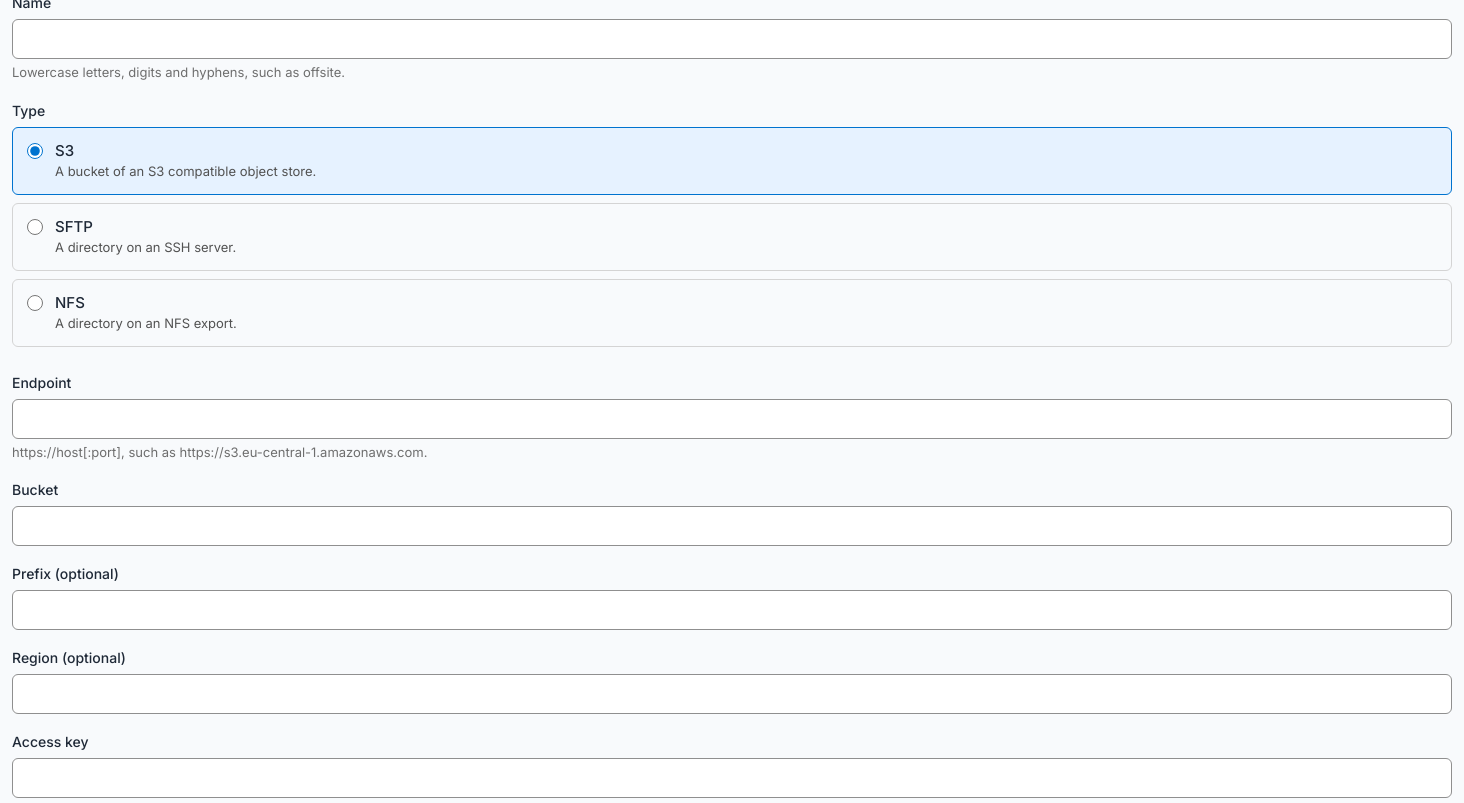
Test case: TargetForm › shows the server's field error at its field and other errors above the form
Type "offsite" into the field labelled "Name" at point(732, 39), box [12,19,1452,59]
(page scrolled)
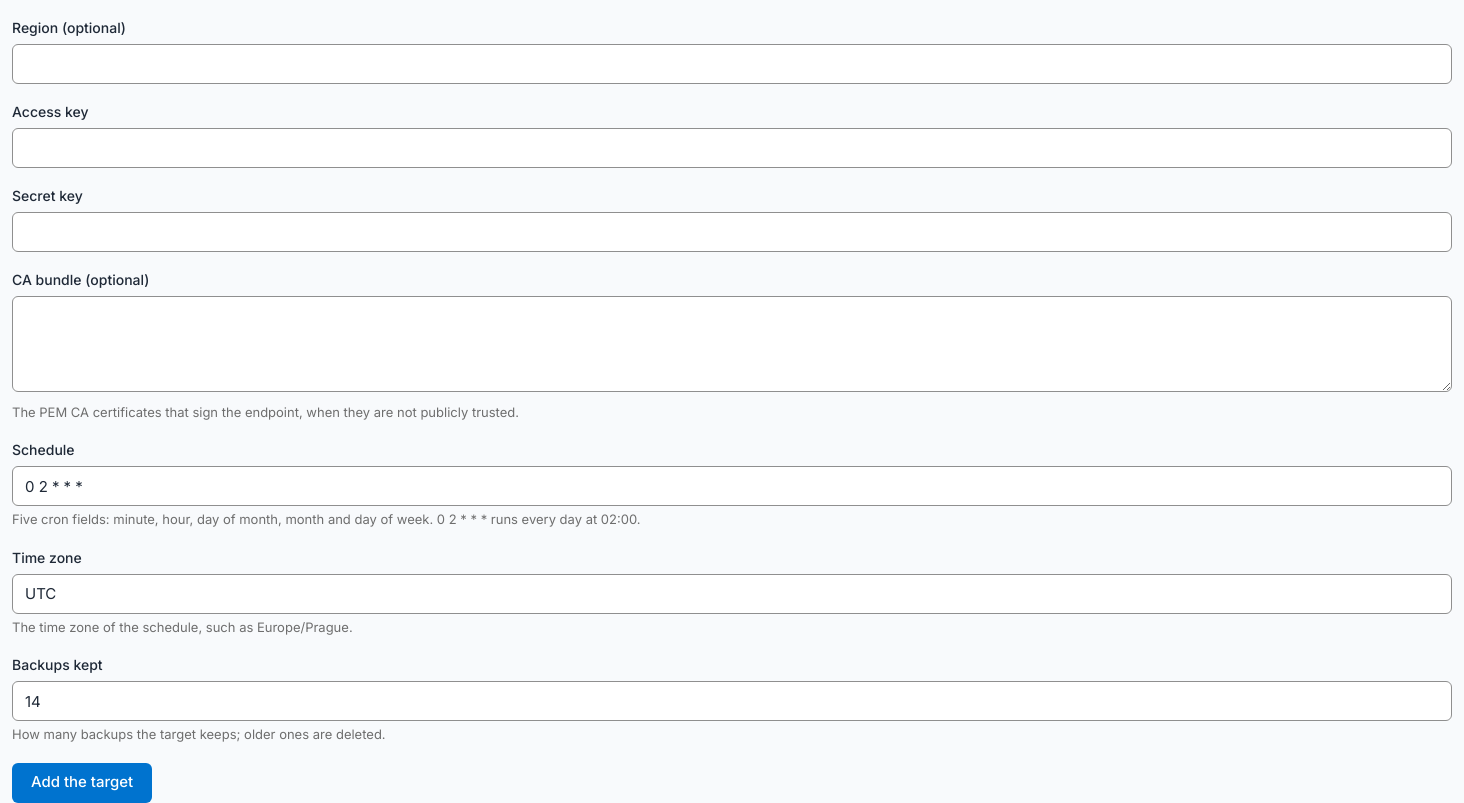
Click the button "Add the target" at point(82, 782), box [12,762,152,802]
(page scrolled)
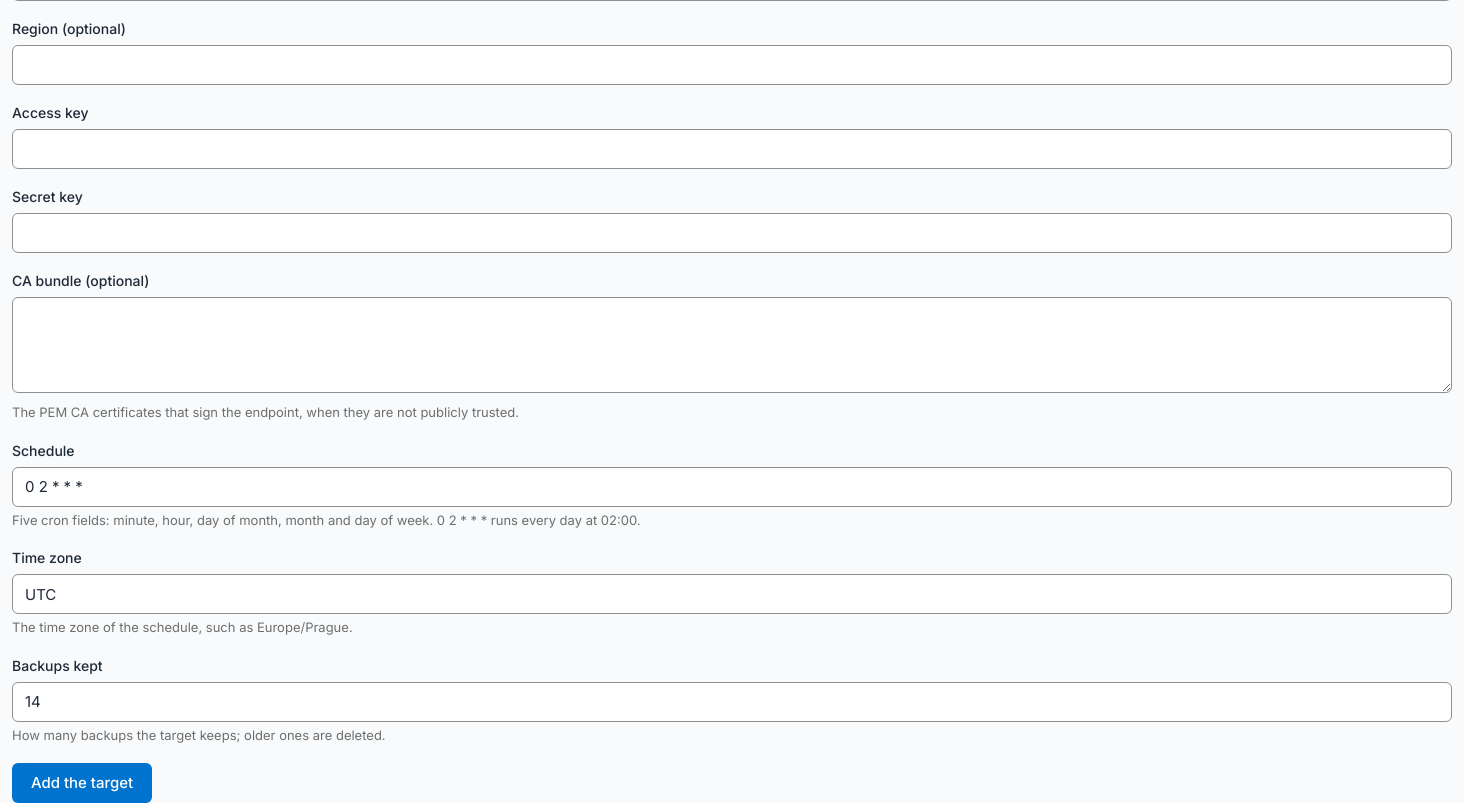
Click the button "Add the target" at point(82, 783), box [12,763,152,802]
(page scrolled)
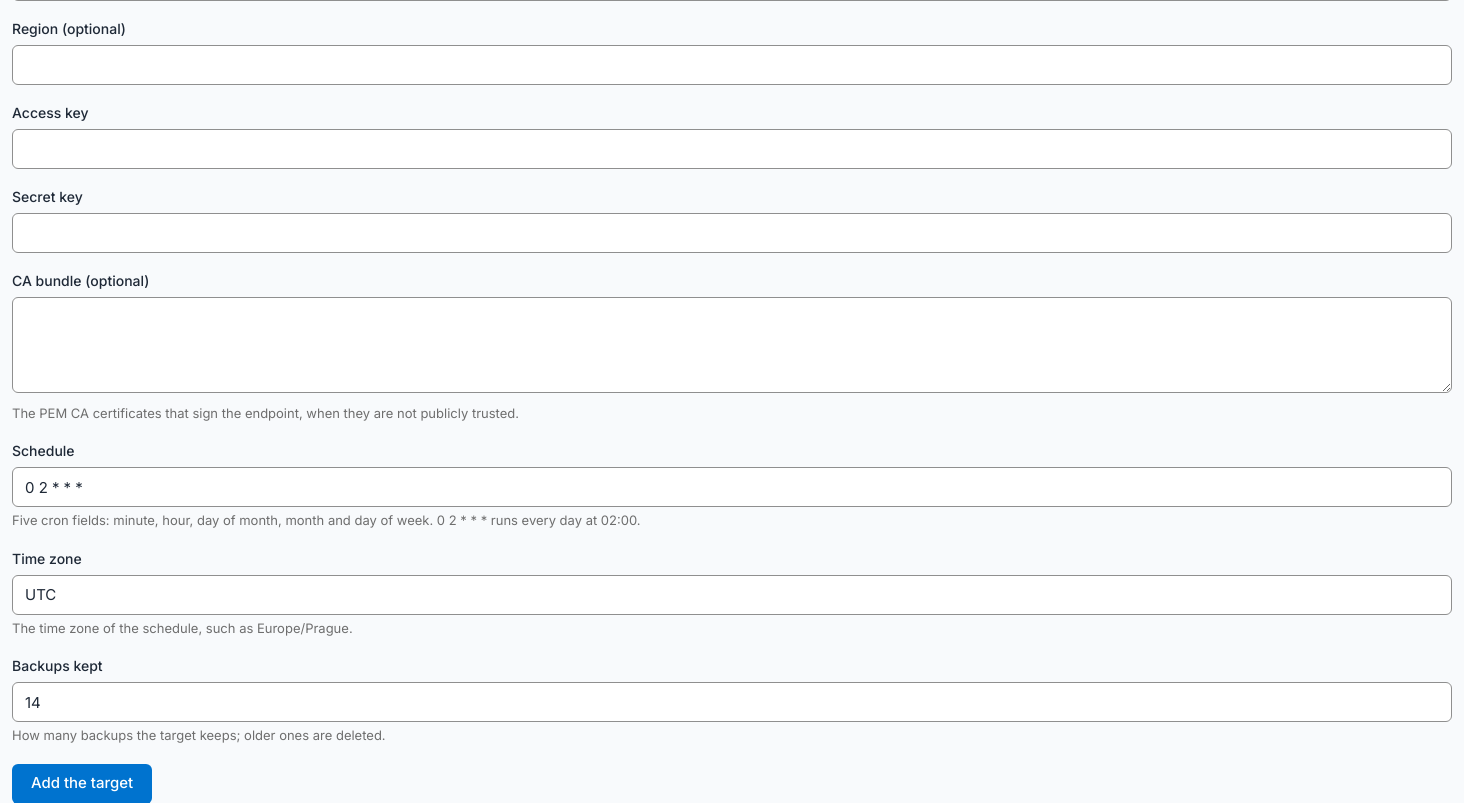
Click the button "Add the target" at point(82, 784), box [12,764,152,802]
(page scrolled)
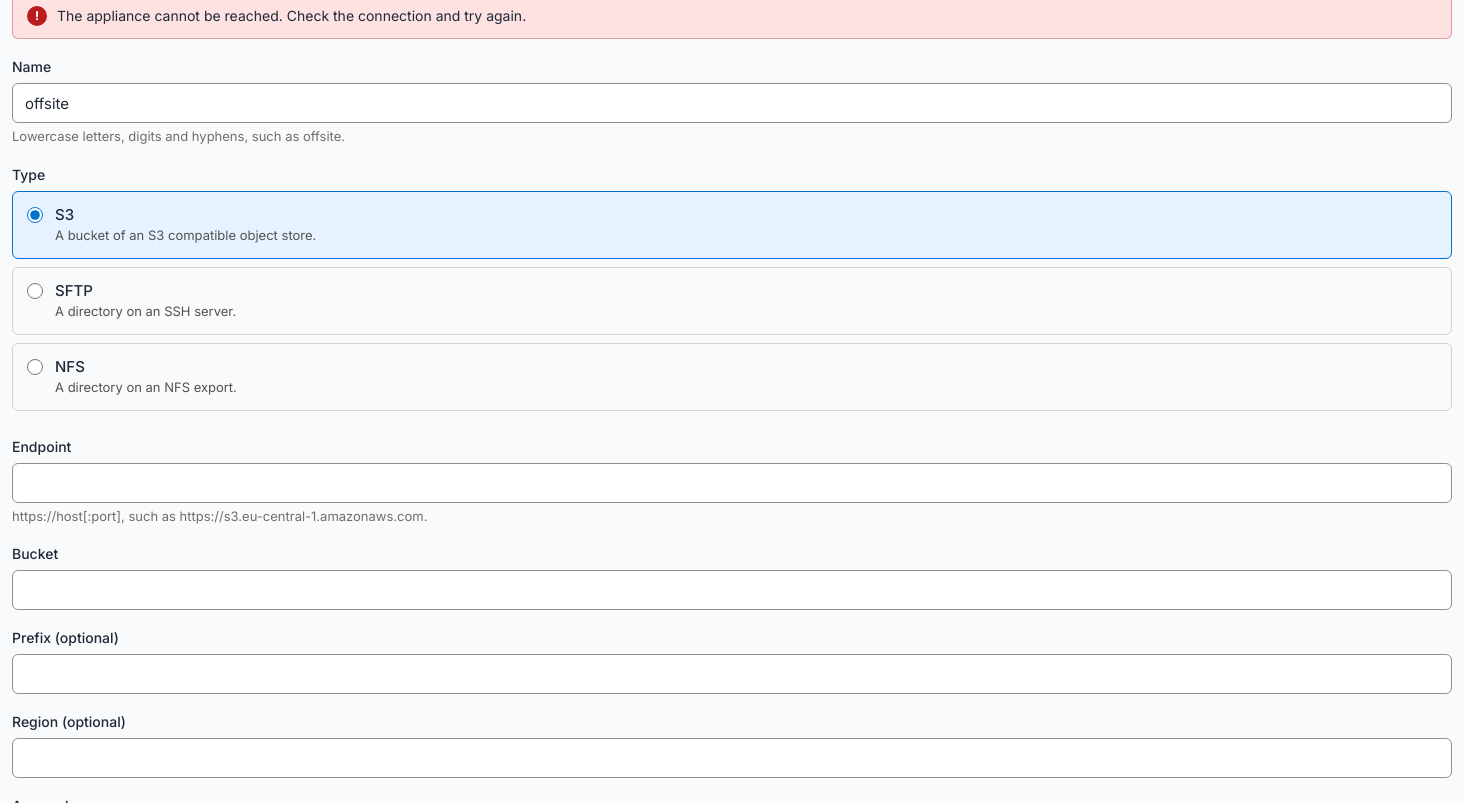
Expected: the text "cannot be reached" is shown, [57,7,526,24]
